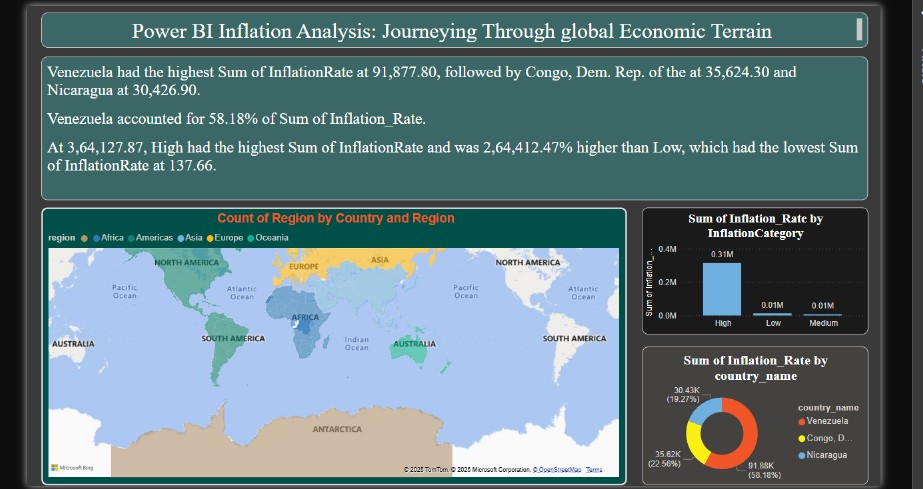

The page's visual inventory and layout, read from the dashboard file:
{"tool":"powerbi","page":{"name":"Report","canvas":[1280,720],"ordinal":1},"visuals":[{"type":"filledMap","title":"Count of Region by Country and Region","fields":{"Series":["continents2.region"],"Category":["continents2.name"]},"box":[21.2,302.8,878.2,416.4],"z":0},{"type":"donutChart","fields":{"Y":["Sum(global_inflation_data.Inflation_Rate)"],"Category":["global_inflation_data.country_name"]},"box":[922.2,511.8,339.2,207.4],"z":1000},{"type":"columnChart","title":"Sum of Inflation_Rate by InflationCategory","fields":{"Y":["Sum(global_inflation_data.Inflation_Rate)"],"Category":["global_inflation_data.InflationCategory"]},"box":[922.2,302.8,339.2,190.8],"z":2000},{"type":"textbox","box":[21.2,10.6,1240.1,53],"z":3000},{"type":"textbox","box":[21.2,75.7,1240.1,215],"z":4000}]}

Visuals, with their boxes on the page's 1280x720 design canvas (x1, y1, x2, y2). These are canvas units, not pixel positions in the 923x489 screenshot, which may show the page scaled, cropped or inside an application window:
"Count of Region by Country and Region" filledMap: (left=21, top=303, right=899, bottom=719)
donutChart - Sum(global_inflation_data.Inflation_Rate) x global_inflation_data.country_name: (left=922, top=512, right=1261, bottom=719)
"Sum of Inflation_Rate by InflationCategory" columnChart: (left=922, top=303, right=1261, bottom=494)
textbox: (left=21, top=11, right=1261, bottom=64)
textbox: (left=21, top=76, right=1261, bottom=291)
